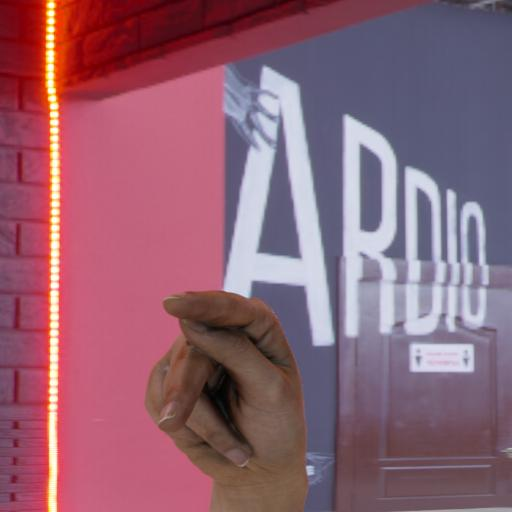P: (120, 279, 326, 493)
